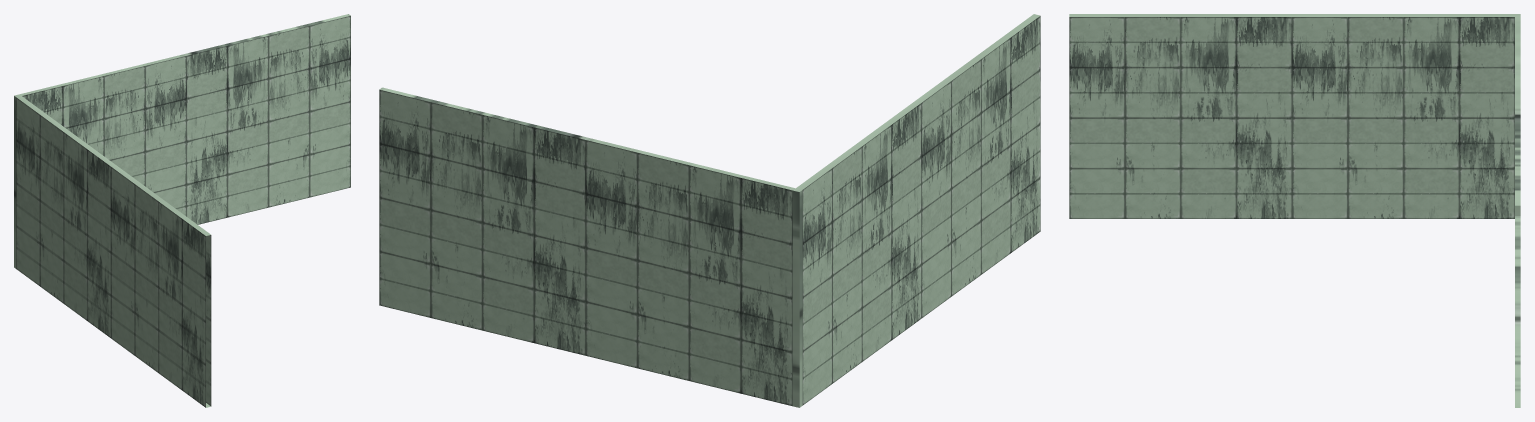
Rendered from sm_wall_corner_02x005x02_a.fbx.
3 renders of one model, left to right at view 1: azimuth 30°, elevation 25°; view 2: azimuth 150°, elevation 25°; view 3: azimuth 270°, elevation 25°, orthographic. The views are drawn at different scales.
Visible parts, largest first — view 1: sm_wall_corner_02x005x02_a; view 2: sm_wall_corner_02x005x02_a; view 3: sm_wall_corner_02x005x02_a.
Part boxes in pixels (left/top/right/bottom): sm_wall_corner_02x005x02_a: left=14, top=14, right=350, bottom=407; sm_wall_corner_02x005x02_a: left=379, top=14, right=1040, bottom=407; sm_wall_corner_02x005x02_a: left=1069, top=14, right=1520, bottom=407.
Bounding box in the file's own units: 408 × 200 × 405.
